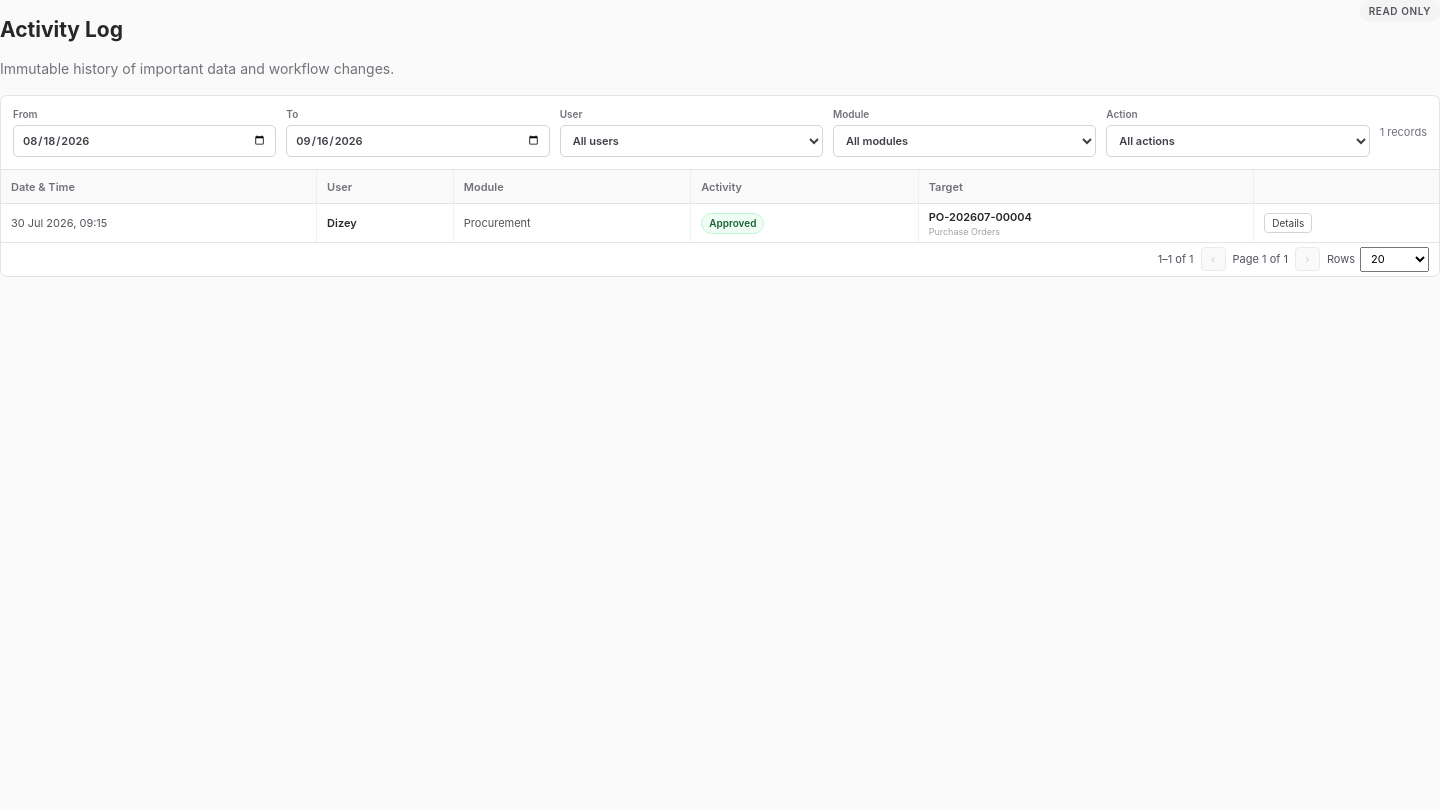
Test: loads, filters, paginates, and opens structured change details
Expected: the text "PO-202607-00004" is shown, [929,210,1032,224]
Select "Inventory" in the dropdown labelled "Module" at point(965, 141), box [833,125,1096,157]
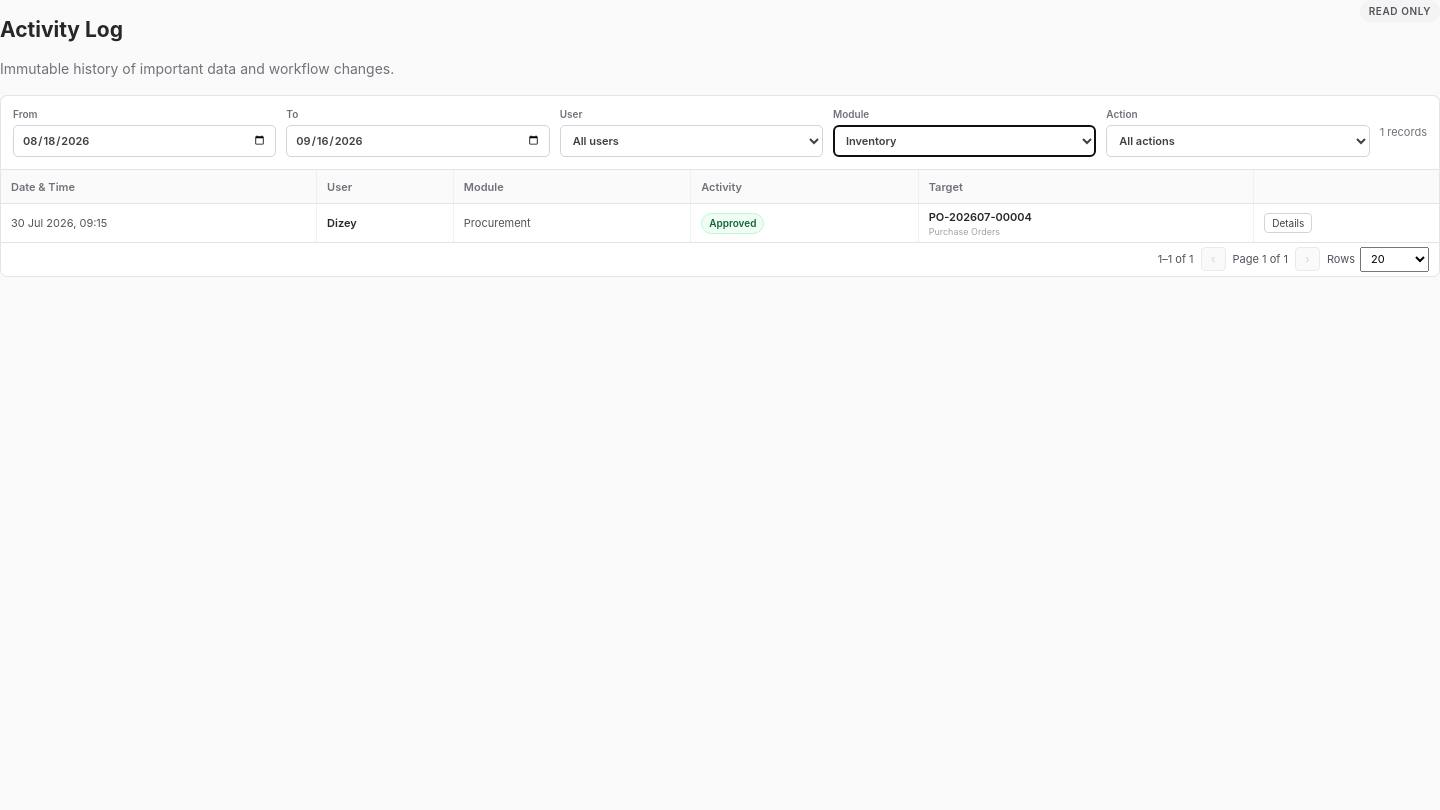
Click the button with aria-label "View details for PO-202607-00004" at point(1288, 223), box [1264,213,1312,233]
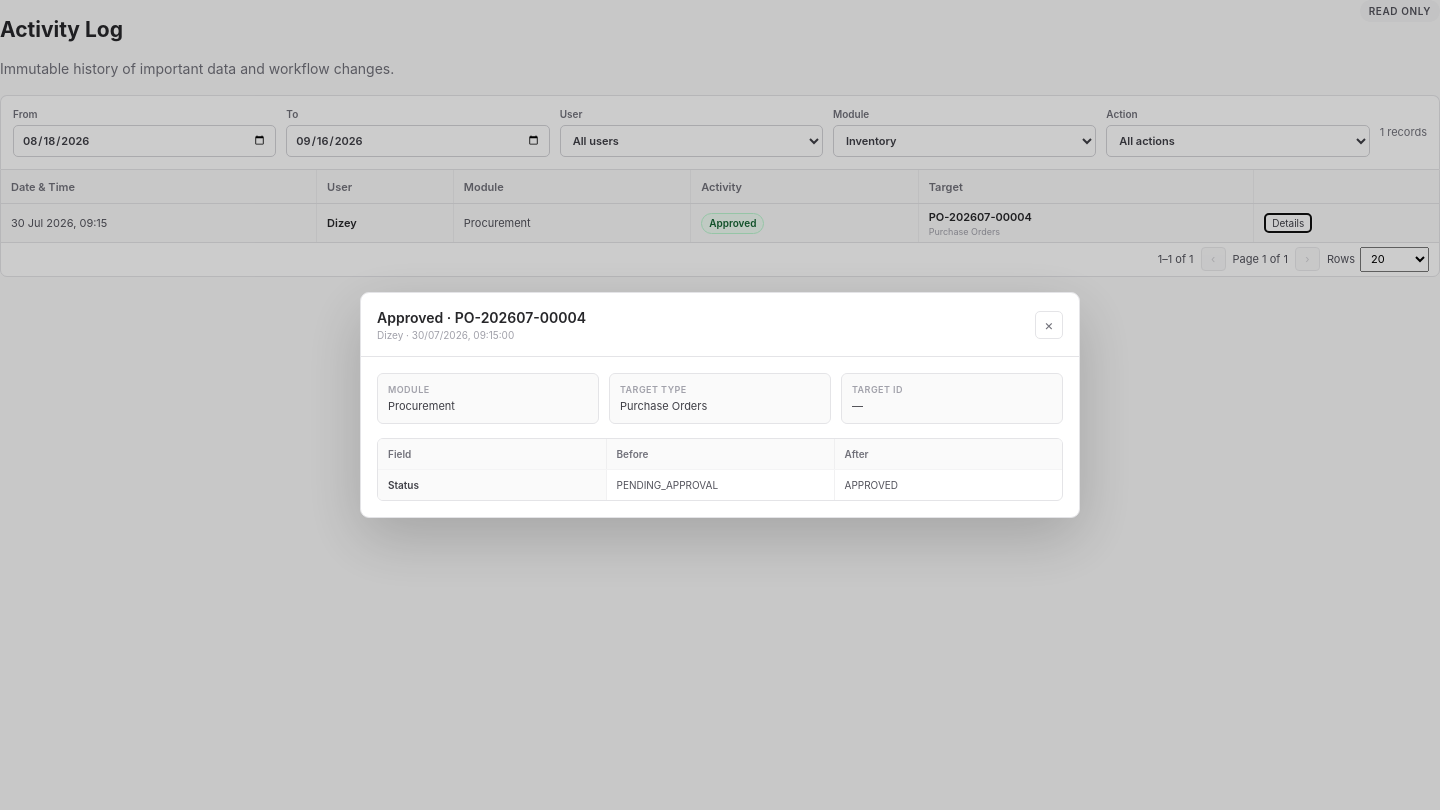
Expected: the dialog named "Activity details" is shown, [360,292,1080,518]
Expected: the text "PENDING_APPROVAL" is shown, [606,470,834,500]
Expected: the text "APPROVED" is shown, [834,470,1062,500]
